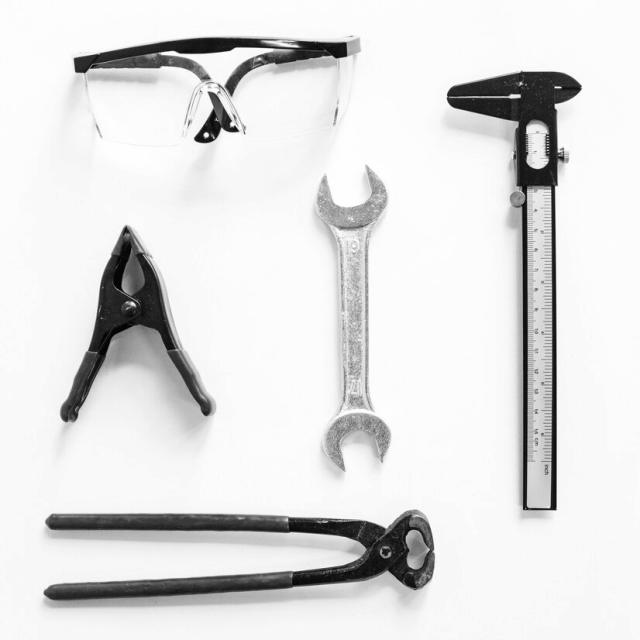c_clamp: (33, 230, 241, 462)
glasses: (54, 36, 386, 152)
pliers: (28, 497, 454, 628)
vernier_caliper: (440, 29, 623, 524)
wrench: (299, 169, 415, 480)
